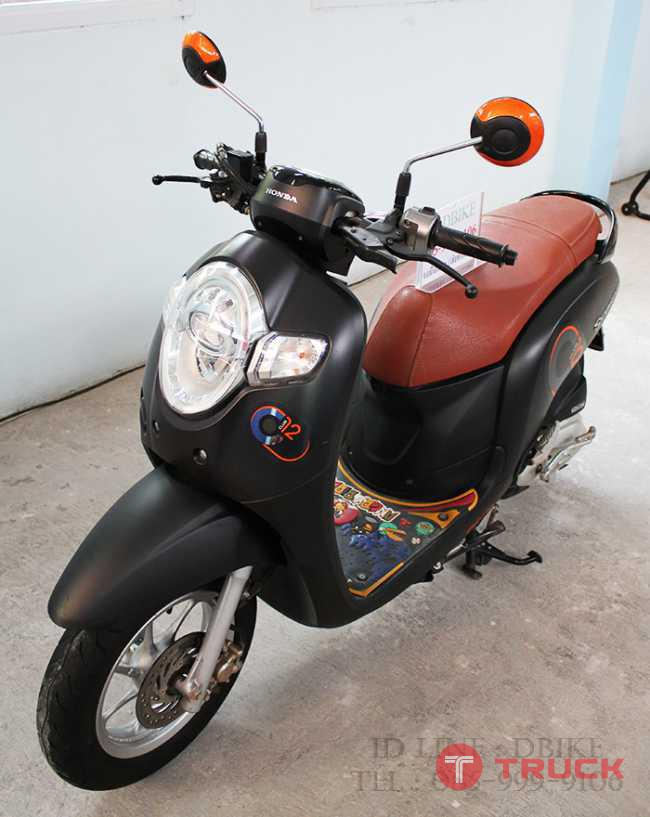motorcycle: (32, 28, 626, 793)
